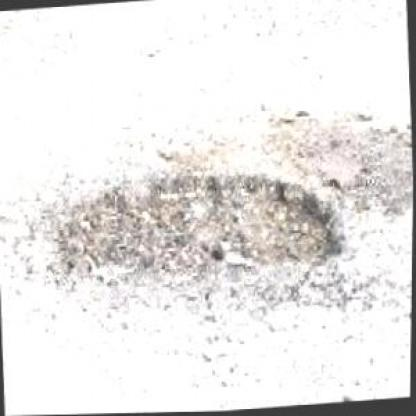pothole: (51, 154, 347, 288)
